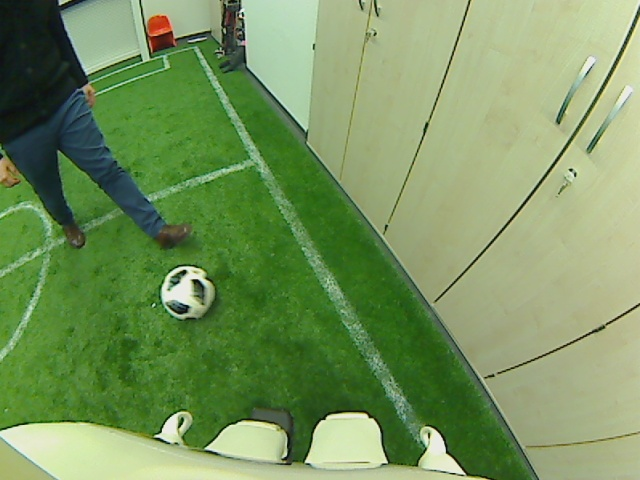ball: (158, 263, 216, 322)
